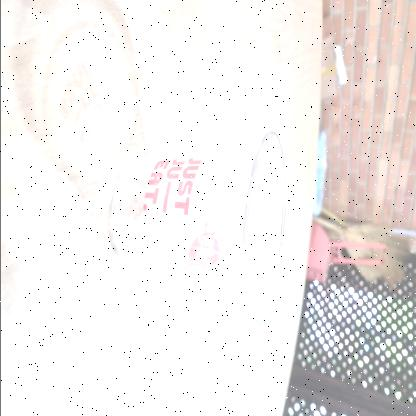Others: (102, 126, 290, 330)
